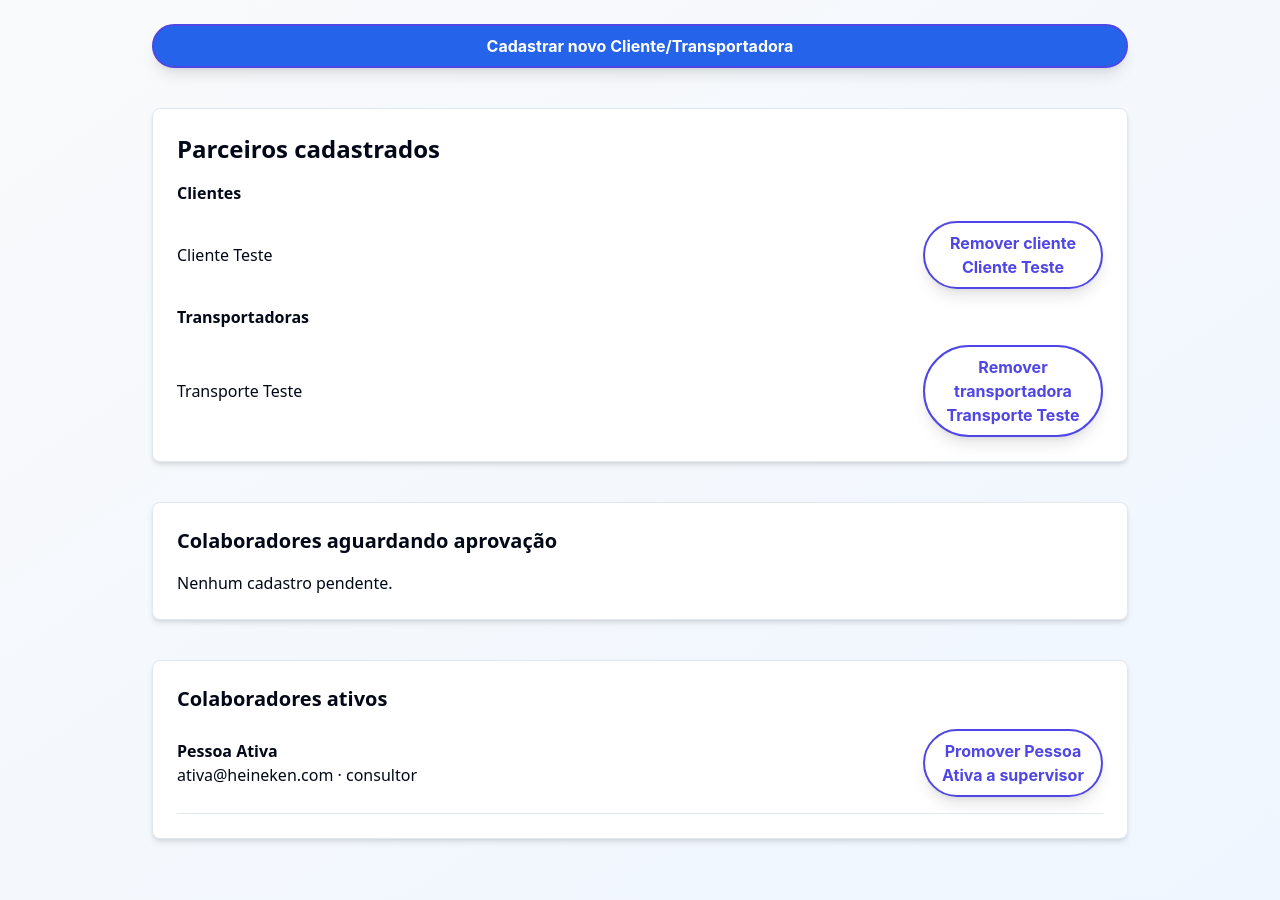
Test: fluxo principal com componentes reais › promove um consultor e remove a ação após confirmar o novo cargo
Click the button "Promover Pessoa Ativa a supervisor": (1013, 763) [923,729,1103,797]
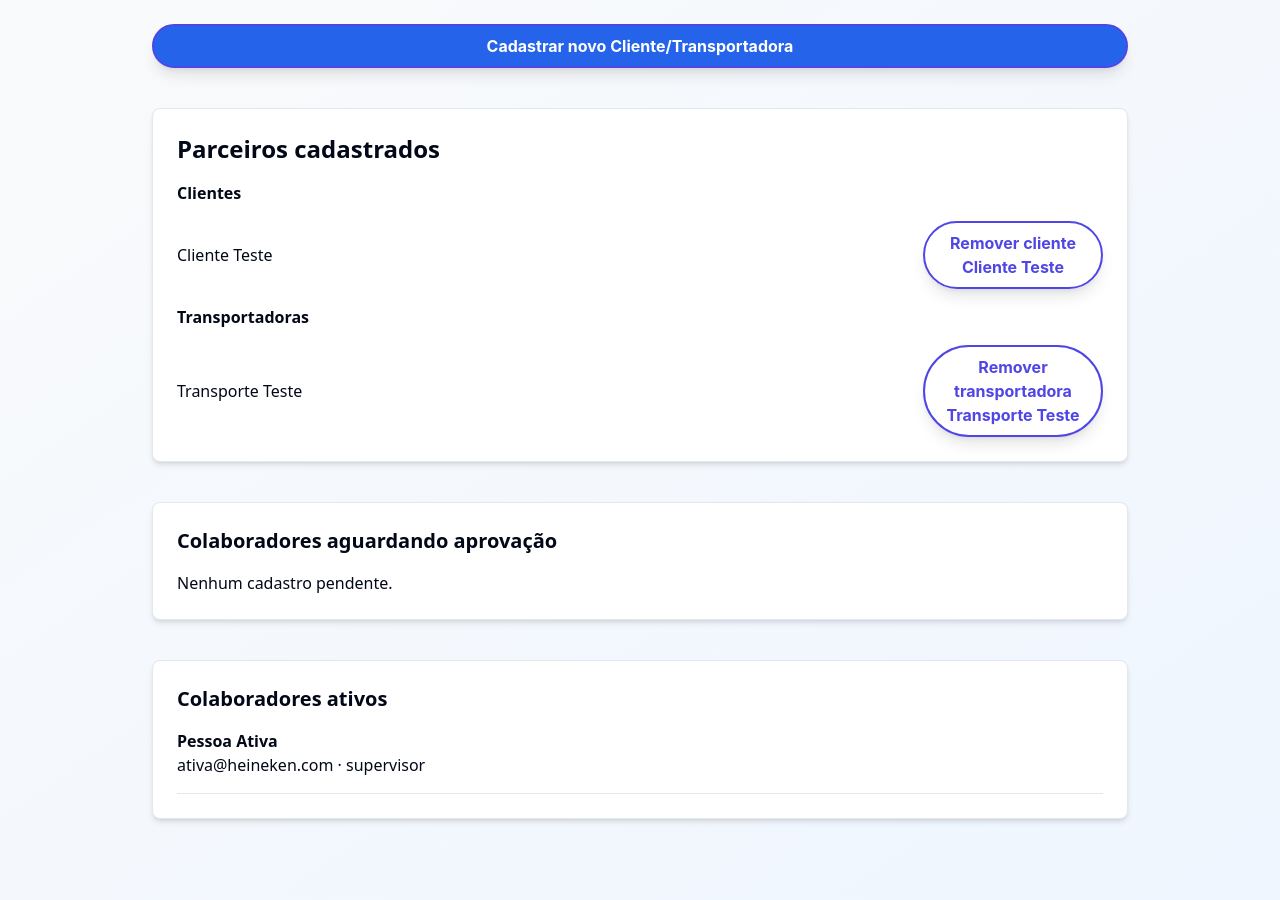
Expected: the button "Promover Pessoa Ativa a supervisor" is gone
Expected: the text "ativa@heineken.com · supervisor" is shown, [177,753,425,777]
